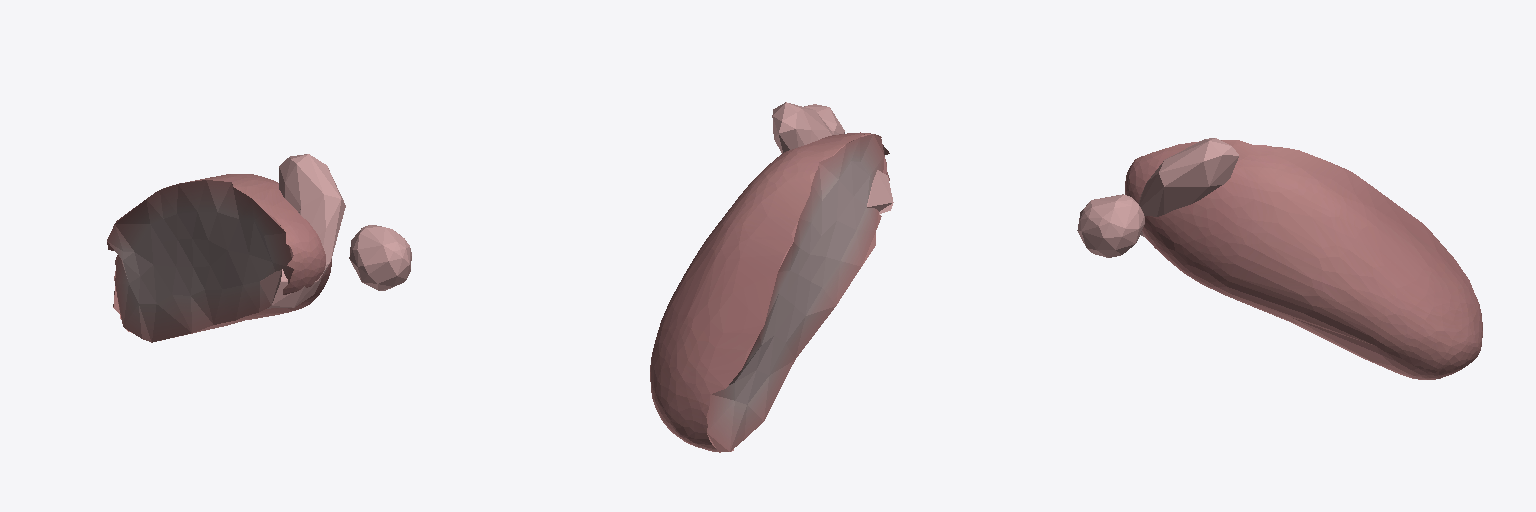
3 renders of one model, left to right at view 1: azimuth 30°, elevation 25°; view 2: azimuth 150°, elevation 25°; view 3: azimuth 270°, elevation 25°, orthographic.
Parts seen in each view (by area): view 1: obj0; view 2: obj0; view 3: obj0.
Boxes of the visible parts, box(x1,y1,x2,y2) form: obj0: box(107, 154, 411, 342); obj0: box(650, 102, 893, 452); obj0: box(1077, 138, 1482, 379).
Bounding box in the file's own units: 2.39 × 4.17 × 6.2.
Materials: 1 (1 with a texture image).